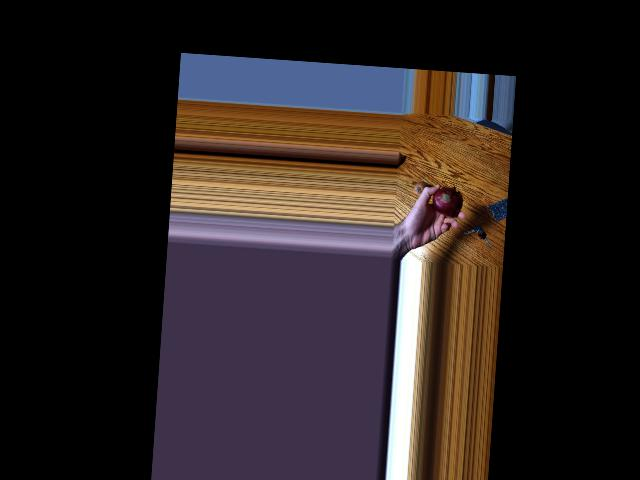onion: (408, 180, 427, 200)
